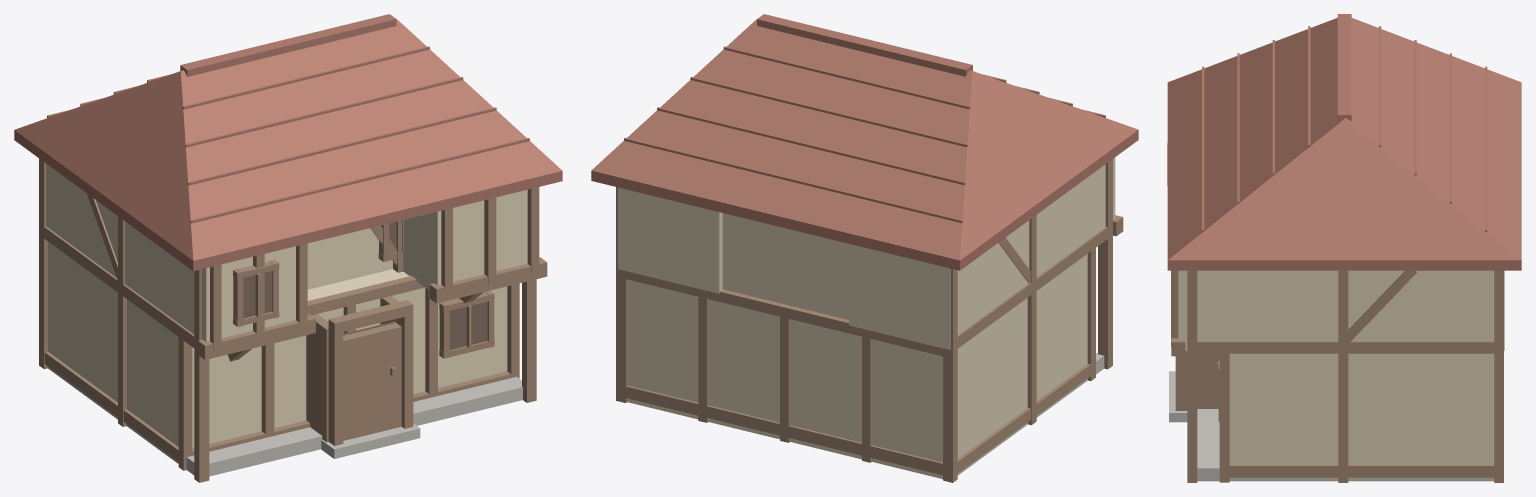
The model's file is house-twin-gable.glb.
3 renders of one model, left to right at view 1: azimuth 30°, elevation 25°; view 2: azimuth 150°, elevation 25°; view 3: azimuth 270°, elevation 25°, orthographic.
Visible parts, largest first — view 1: house-twin-gable_roof, house-twin-gable_plaster, house-twin-gable_wood, house-twin-gable_stone, house-twin-gable_door, house-twin-gable_window; view 2: house-twin-gable_plaster, house-twin-gable_roof, house-twin-gable_wood; view 3: house-twin-gable_roof, house-twin-gable_plaster, house-twin-gable_wood, house-twin-gable_stone.
Part boxes in pixels (x1,y1,x2,y2): house-twin-gable_roof: (14, 14, 562, 271); house-twin-gable_plaster: (46, 164, 527, 447); house-twin-gable_wood: (39, 158, 547, 482); house-twin-gable_stone: (47, 366, 522, 476); house-twin-gable_door: (343, 323, 401, 440); house-twin-gable_window: (243, 221, 487, 349); house-twin-gable_plaster: (618, 157, 1115, 478); house-twin-gable_roof: (591, 14, 1138, 270); house-twin-gable_wood: (616, 159, 1123, 482); house-twin-gable_roof: (1167, 14, 1521, 270); house-twin-gable_plaster: (1178, 270, 1504, 464); house-twin-gable_wood: (1167, 143, 1503, 482); house-twin-gable_stone: (1169, 371, 1494, 481).
Bounding box in the file's own units: 2 × 1.77 × 1.68.
